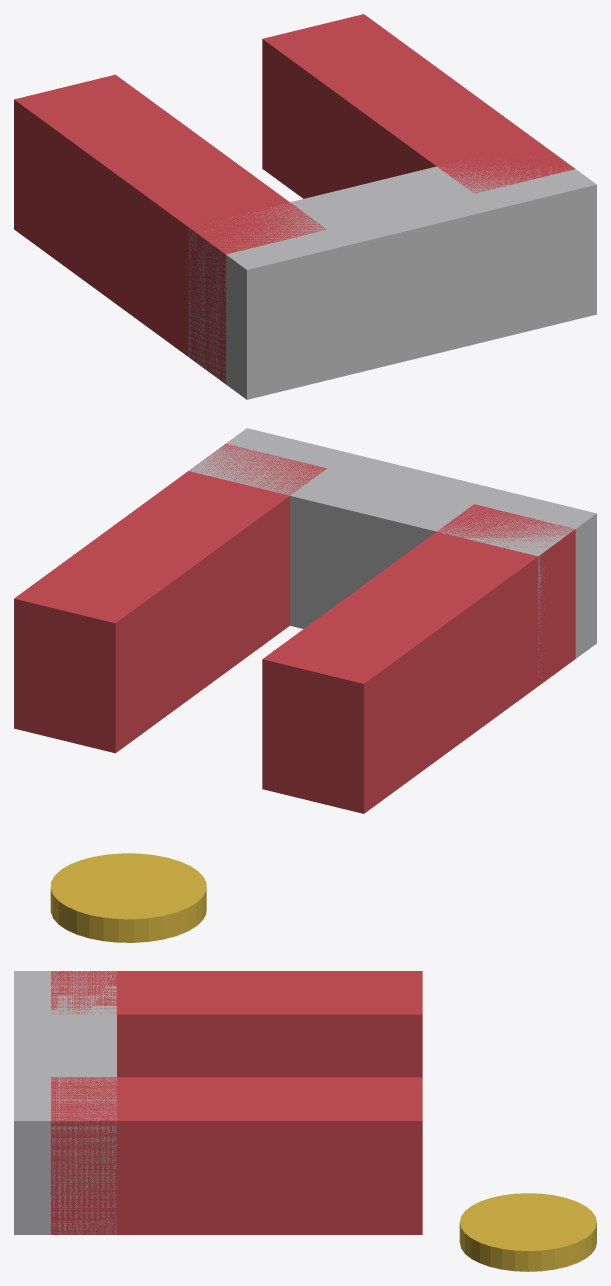
Rendered from powerup_troll_coin_magnet.glb.
The picture shows the model from 3 angles, top to bottom: view 1: azimuth 30°, elevation 25°; view 2: azimuth 150°, elevation 25°; view 3: azimuth 270°, elevation 25°; orthographic projection. The views are drawn at different scales.
Visible parts, largest first — view 1: mag_top, mag_left, mag_right; view 2: mag_left, mag_right, mag_top, coin; view 3: mag_right, mag_left, mag_top, coin.
Part boxes in pixels (x1,y1,x2,y2): mag_top: (188, 160, 596, 399); mag_left: (14, 74, 326, 384); mag_right: (262, 14, 574, 198); mag_left: (262, 504, 575, 813); mag_right: (14, 443, 326, 753); mag_top: (189, 428, 596, 676); coin: (50, 853, 206, 942); mag_right: (51, 1077, 422, 1234); mag_left: (51, 971, 422, 1077); mag_top: (14, 971, 116, 1234); coin: (459, 1193, 596, 1271).
Bounding box in the file's own units: 0.62 × 0.38 × 1.02.
